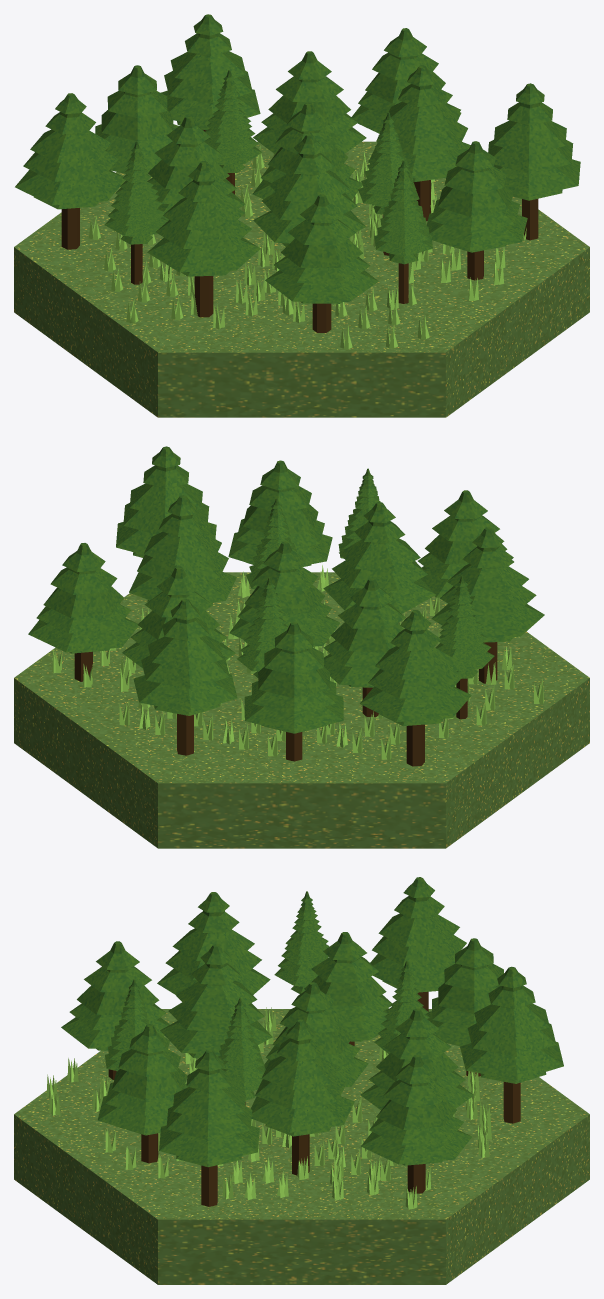
File: Hex_Forest_Test.fbx
3 renders of one model, top to bottom at view 1: azimuth 30°, elevation 25°; view 2: azimuth 150°, elevation 25°; view 3: azimuth 270°, elevation 25°, orthographic.
Parts seen in each view (by area): view 1: Hex Tile.002, Tree Large.002, Tree.002, Forest, Grass; view 2: Hex Tile.002, Tree Large.002, Tree.002, Forest, Grass; view 3: Hex Tile.002, Tree Large.002, Tree.002, Forest, Grass.
Boxes of the visible parts, x1,y1,x2,y2 form: Hex Tile.002: [14, 141, 589, 417]; Tree Large.002: [15, 14, 580, 317]; Tree.002: [95, 28, 527, 332]; Forest: [104, 70, 432, 303]; Grass: [89, 145, 526, 349]; Hex Tile.002: [14, 572, 589, 848]; Tree Large.002: [116, 446, 544, 766]; Tree.002: [28, 460, 513, 761]; Forest: [237, 468, 494, 719]; Grass: [52, 565, 543, 759]; Hex Tile.002: [14, 1009, 589, 1284]; Tree Large.002: [157, 877, 563, 1206]; Tree.002: [61, 932, 503, 1193]; Forest: [105, 891, 436, 1105]; Grass: [46, 1007, 491, 1209].
Bounding box in the file's own units: 361 × 166 × 400.
Materials: 8 (8 with a texture image).
